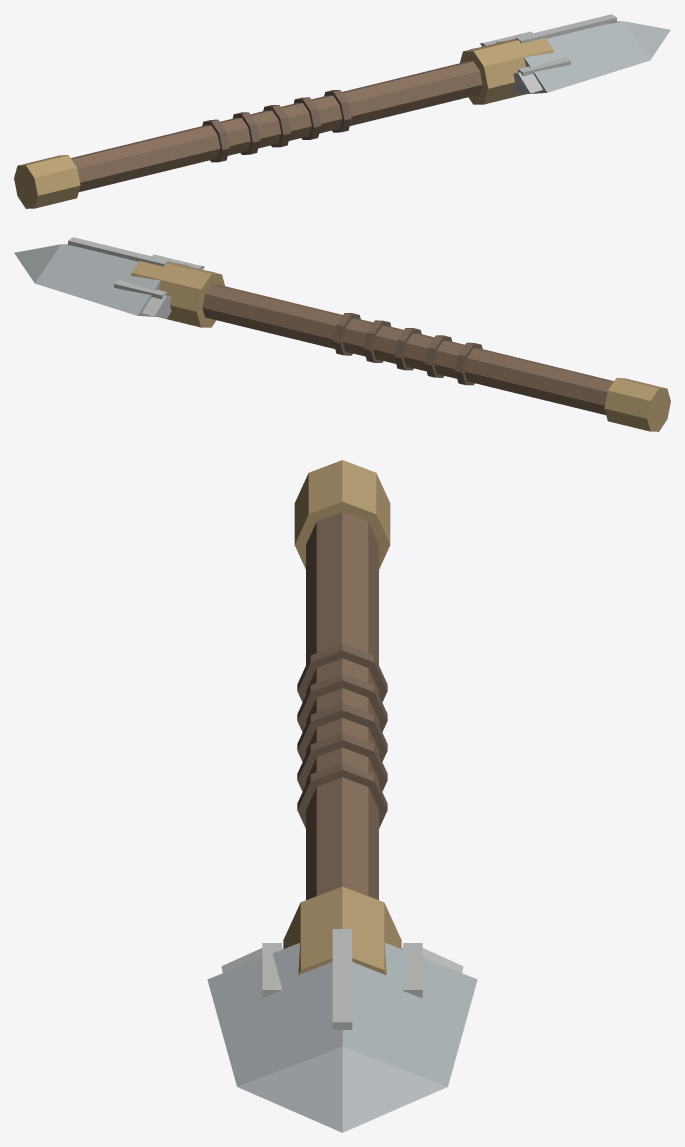
Rendered from forged-spear.glb.
The picture shows the model from 3 angles, top to bottom: view 1: azimuth 30°, elevation 25°; view 2: azimuth 150°, elevation 25°; view 3: azimuth 270°, elevation 25°; orthographic projection. The views are drawn at different scales.
Visible parts, largest first — view 1: forged-spear; view 2: forged-spear; view 3: forged-spear.
Part boxes in pixels (x1=…): forged-spear: x1=14, y1=14, x2=670, y2=208; forged-spear: x1=14, y1=237, x2=670, y2=431; forged-spear: x1=207, y1=460, x2=477, y2=1132.
Size of the model in its own units: 0.529 by 0.0427 by 0.096.
